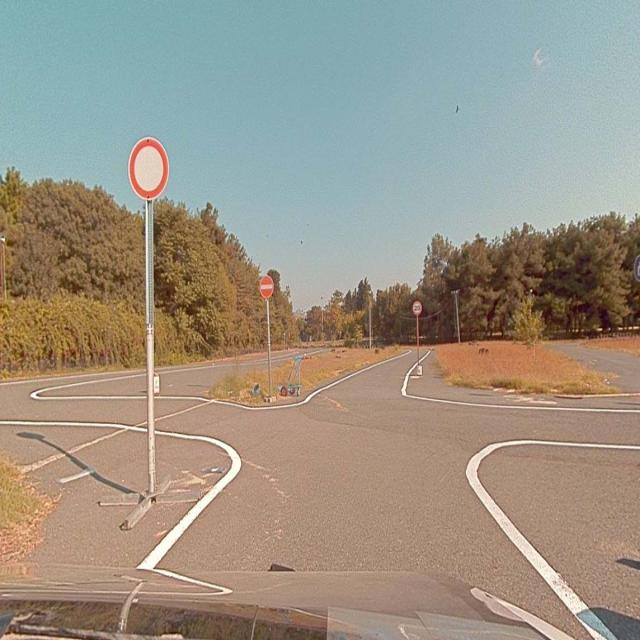20: (412, 301, 422, 315)
girisyok: (260, 275, 274, 297)
